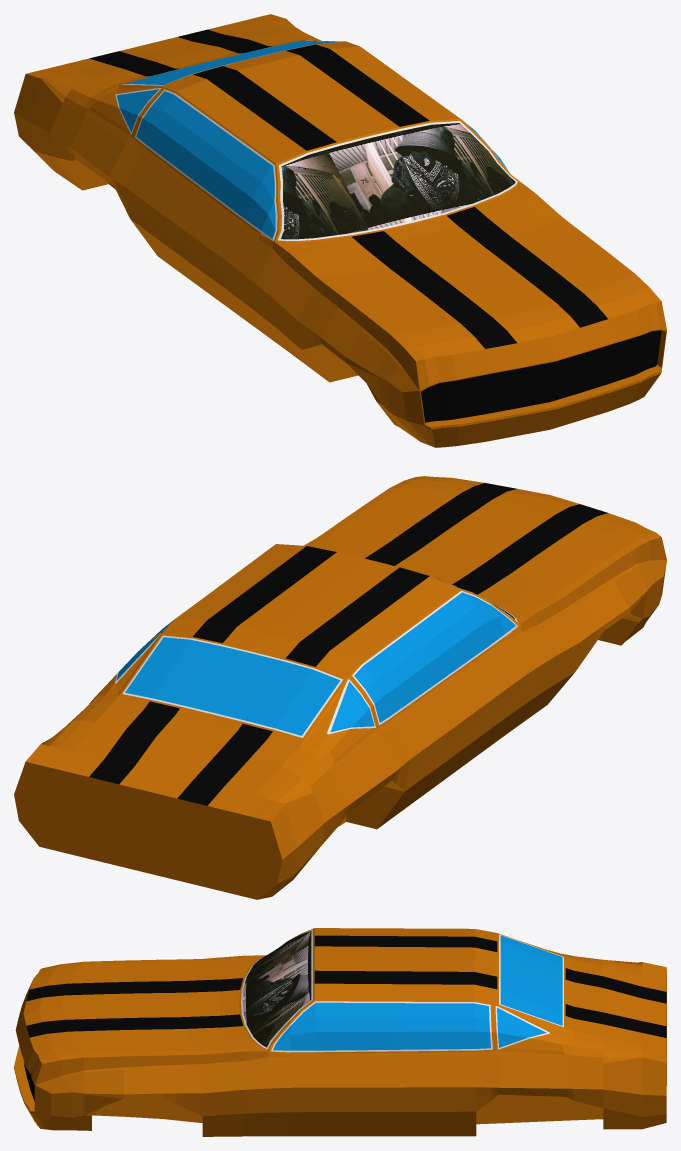
Rendered from Ziak2.fbx.
3 renders of one model, top to bottom at view 1: azimuth 30°, elevation 25°; view 2: azimuth 150°, elevation 25°; view 3: azimuth 270°, elevation 25°, orthographic. The views are drawn at different scales.
Visible parts, largest first — view 1: Body; view 2: Body; view 3: Body.
Boxes of the visible parts, bbox=[...] form: Body: bbox=[14, 14, 666, 447]; Body: bbox=[14, 476, 666, 899]; Body: bbox=[14, 928, 666, 1136].
Bounding box in the file's own units: 187 × 460 × 106.
